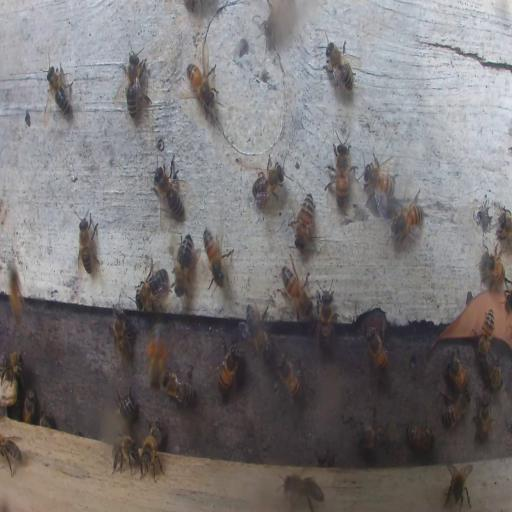bee: (325, 126, 351, 211), (362, 152, 397, 214), (154, 157, 185, 219), (122, 42, 147, 118), (250, 158, 288, 208), (280, 259, 313, 316), (389, 192, 423, 246), (241, 305, 273, 362), (187, 54, 218, 112), (324, 39, 355, 94), (136, 261, 170, 309), (355, 411, 389, 457), (201, 226, 227, 286), (147, 324, 169, 390), (280, 472, 325, 504), (46, 64, 73, 117), (316, 280, 336, 351), (77, 212, 99, 276), (276, 351, 303, 403), (109, 308, 135, 360), (444, 464, 474, 509), (141, 422, 164, 480), (216, 342, 241, 393), (292, 193, 315, 248), (173, 231, 193, 294), (112, 435, 140, 477), (365, 324, 389, 372), (7, 264, 25, 326), (162, 371, 194, 405), (441, 390, 469, 426), (0, 434, 23, 476), (445, 352, 469, 392), (480, 247, 504, 286), (472, 398, 492, 444), (404, 424, 436, 452), (2, 350, 23, 390), (479, 308, 494, 360), (498, 208, 512, 246), (117, 388, 134, 418), (488, 357, 502, 392), (22, 389, 36, 423), (505, 280, 512, 310), (41, 408, 52, 426)
